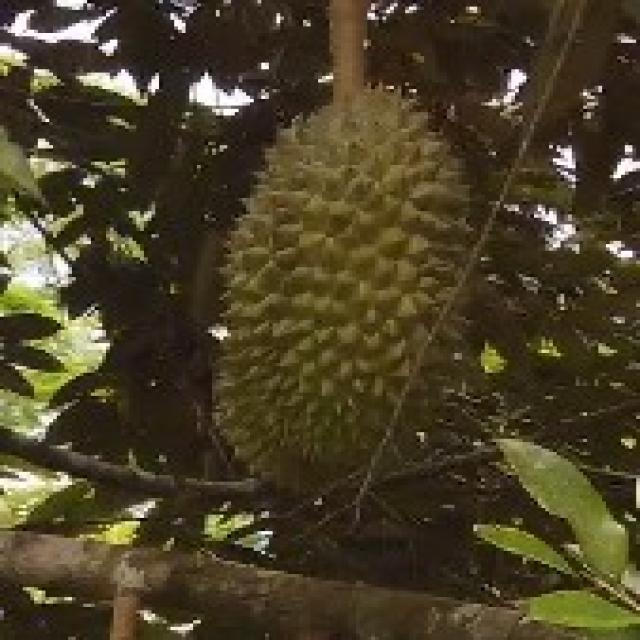immature: (206, 76, 480, 489)
